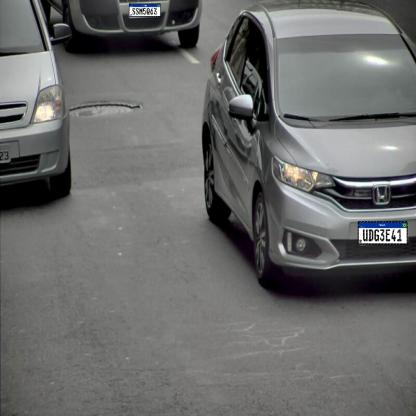PlacaM: (358, 221, 408, 245), (129, 4, 161, 16)
